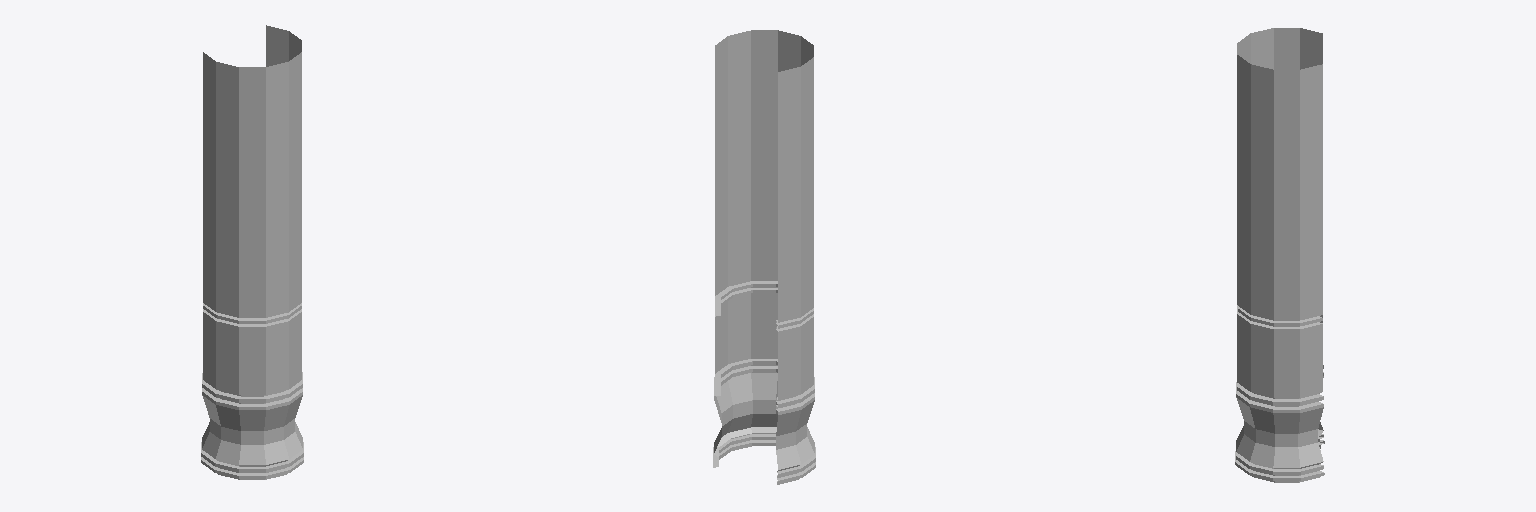
The model's file is colonneExt1.obj.
The picture shows the model from 3 angles: view 1: azimuth 30°, elevation 25°; view 2: azimuth 150°, elevation 25°; view 3: azimuth 270°, elevation 25°; orthographic projection.
Size of the model in its own units: 0.3019 by 1.34 by 0.2615.